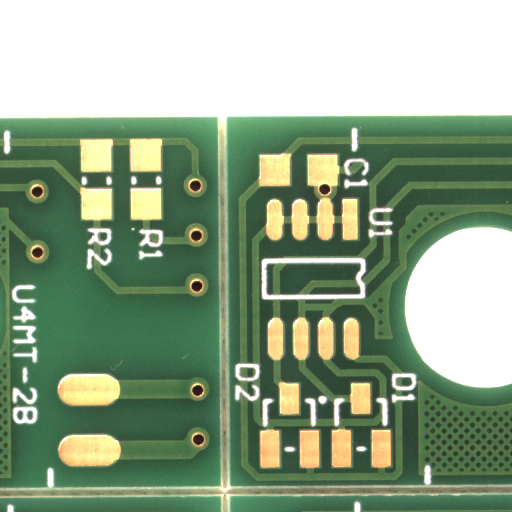Short: (317, 308, 351, 320)
